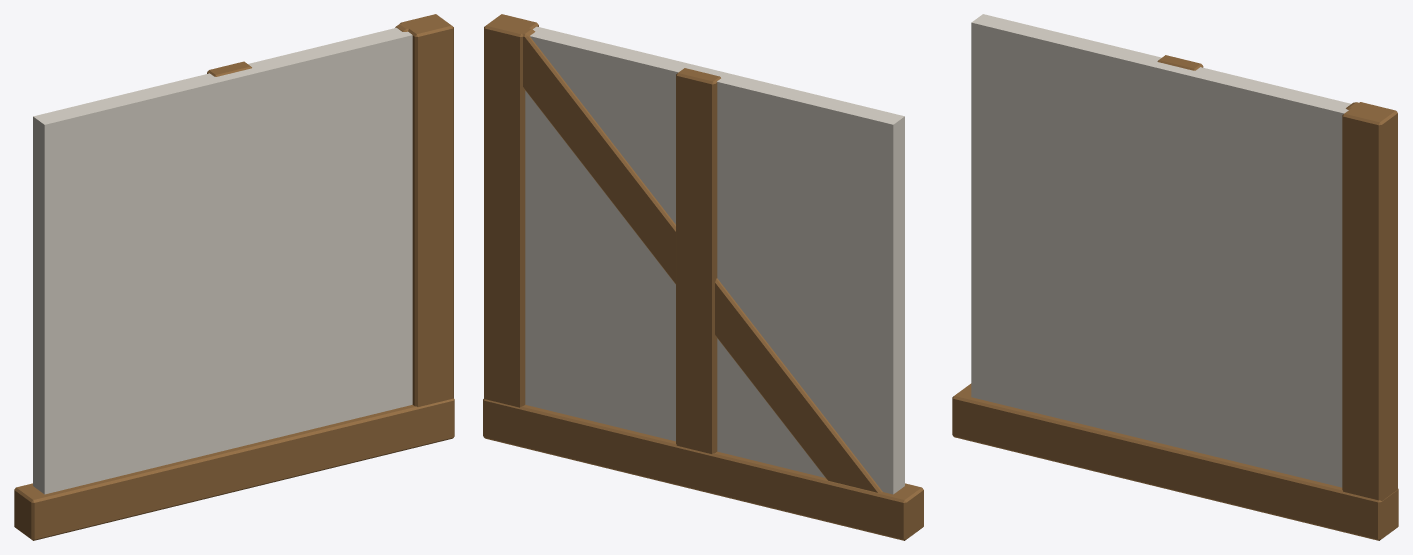
File: WallVDiagL.fbx
3 renders of one model, left to right at view 1: azimuth 30°, elevation 25°; view 2: azimuth 150°, elevation 25°; view 3: azimuth 330°, elevation 25°, orthographic.
Parts seen in each view (by area): view 1: Cube.086, Cube.105, Cube.101; view 2: Cube.086, Cube.105, Cube.100, Cube.101, Cube.097; view 3: Cube.086, Cube.101, Cube.105.
Part boxes in pixels (<box>): Cube.086: <box>33,27,412,494</box>; Cube.105: <box>14,398,454,540</box>; Cube.101: <box>400,14,453,406</box>; Cube.086: <box>525,26,904,494</box>; Cube.105: <box>483,398,923,540</box>; Cube.100: <box>522,28,882,492</box>; Cube.101: <box>484,14,538,407</box>; Cube.097: <box>676,68,720,453</box>; Cube.086: <box>971,14,1350,487</box>; Cube.101: <box>1342,102,1397,500</box>; Cube.105: <box>952,383,1398,540</box>.
Size of the model in its own units: 216 by 202 by 17.27.
